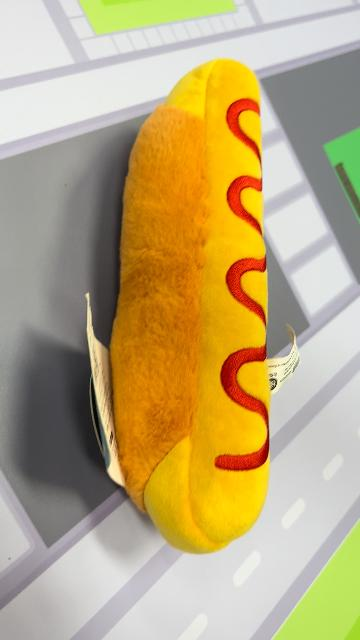hotdog: (108, 58, 272, 554)
